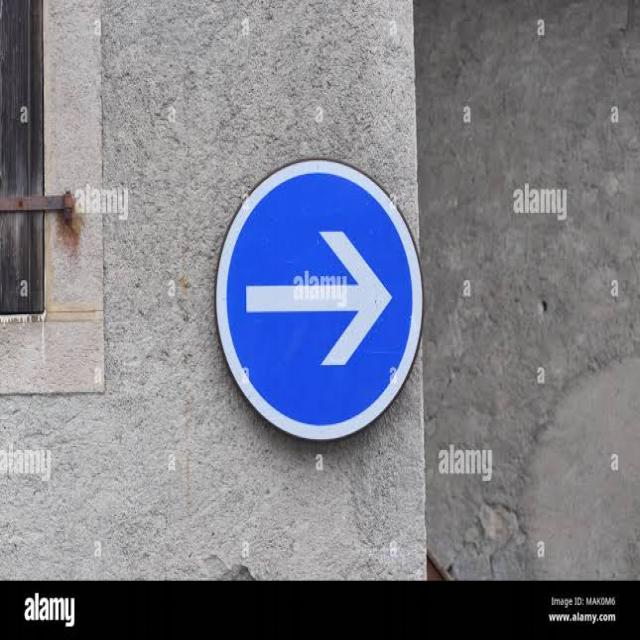Turn Right: (212, 158, 428, 445)
